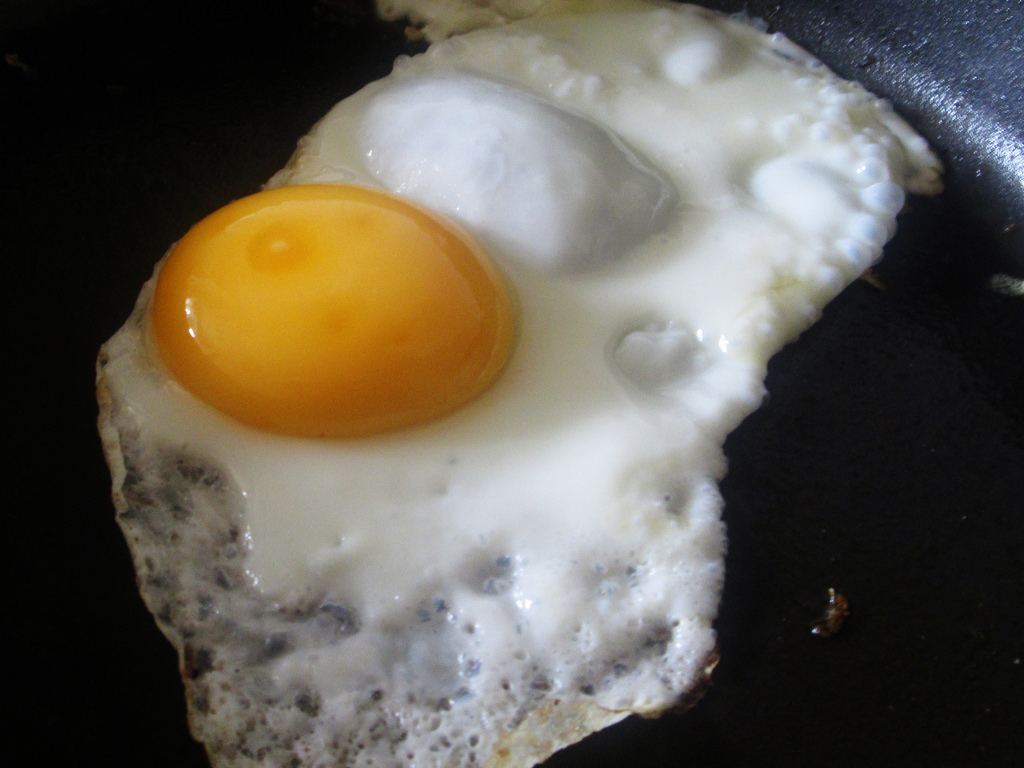fried egg: (120, 50, 922, 704)
